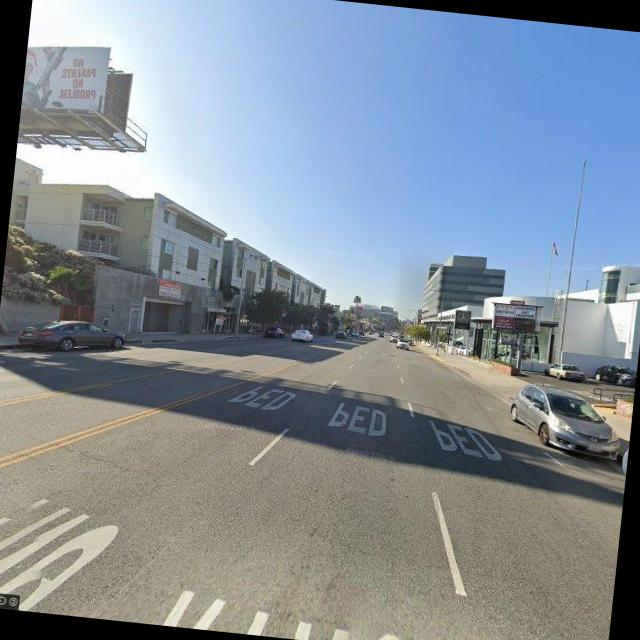crack: (56, 440, 158, 478)
